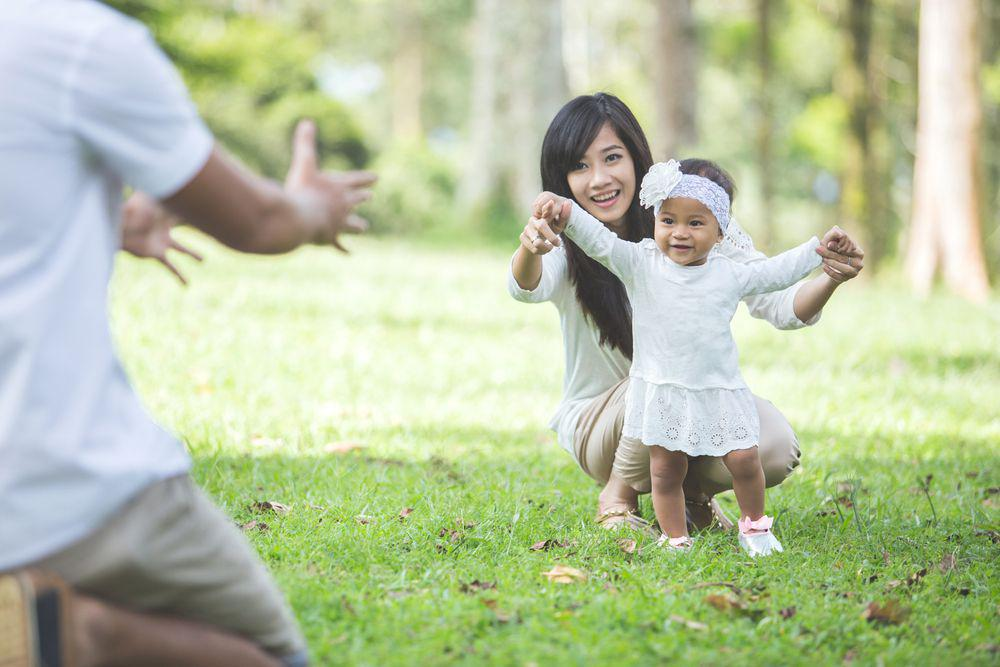child: (574, 152, 861, 550)
